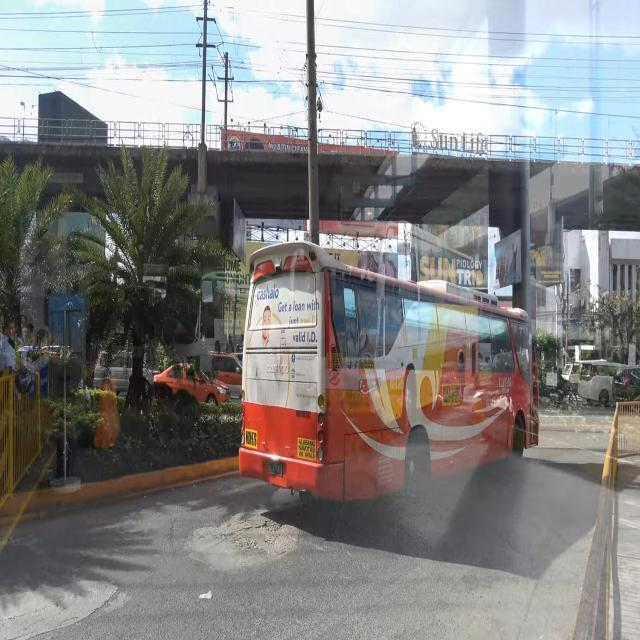bus: (241, 237, 542, 507)
motorcycle: (546, 364, 580, 412)
